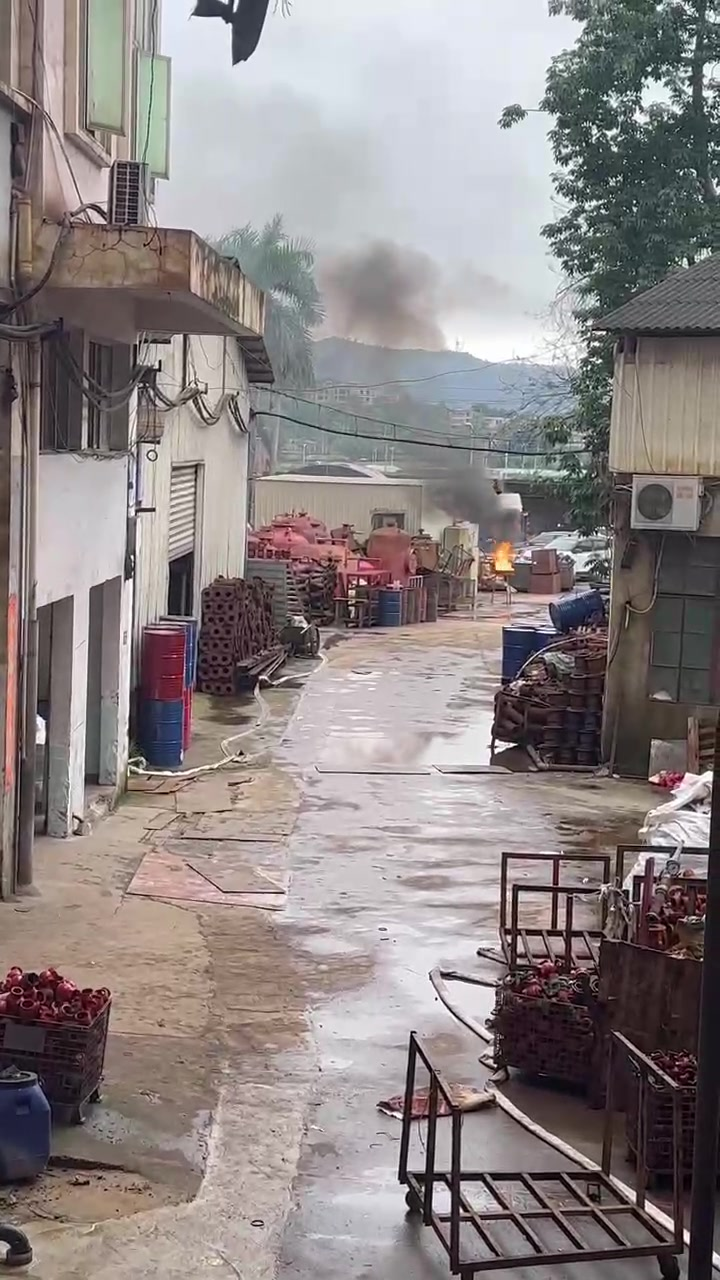fire: (493, 540, 513, 571)
